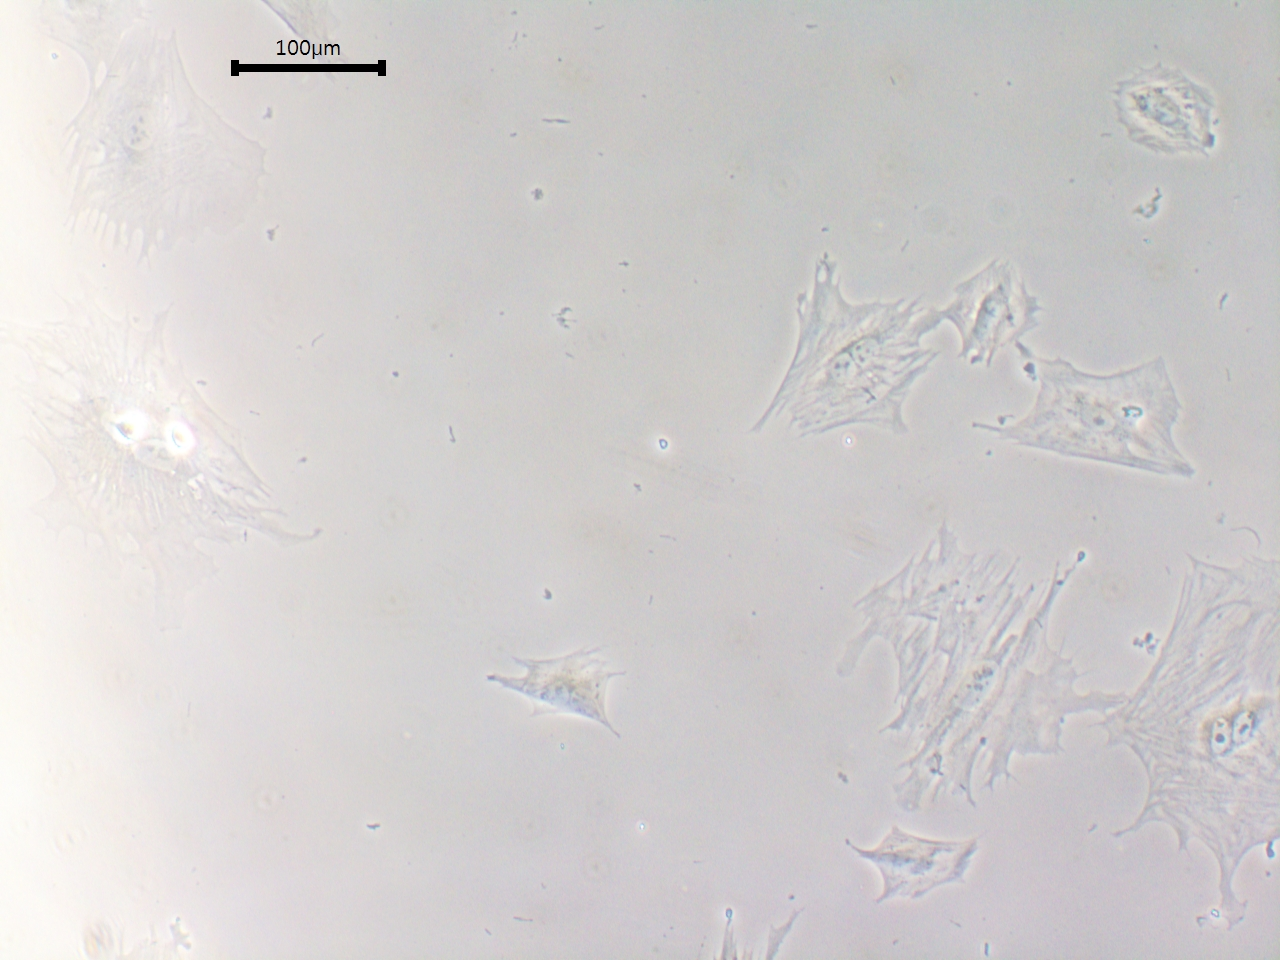dividing: (1120, 552, 1280, 938), (759, 278, 955, 447), (488, 633, 640, 741)
medium-spread: (862, 518, 1113, 805), (57, 14, 296, 271), (962, 339, 1215, 498)
small-polygonal: (846, 814, 984, 902), (943, 254, 1044, 369)
small-spread: (1106, 61, 1220, 158)
